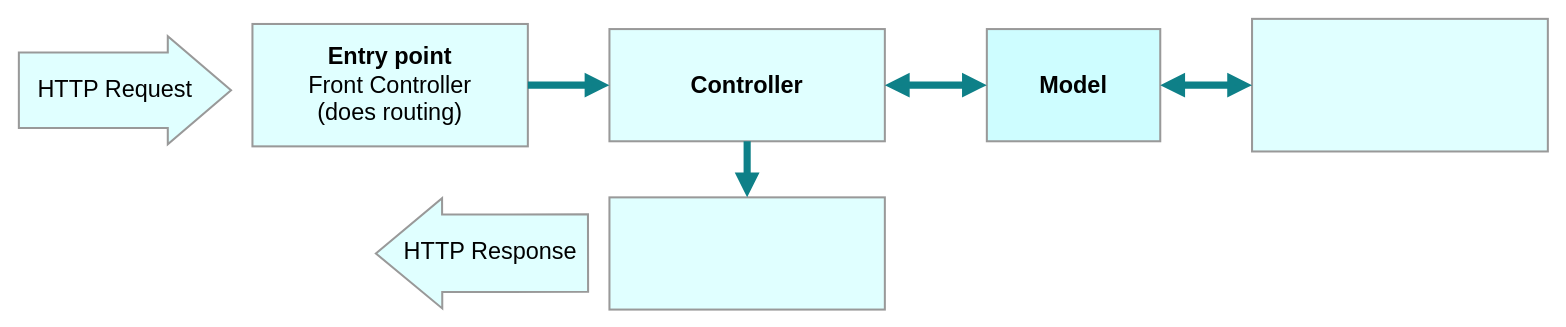
This 1566x327 diagram has some shape labels left out. The centre of each missing label's shape, as x and y in pixels:
Data Source (e.g. database, API etc): the point at 1399,84
View: the point at 746,253
